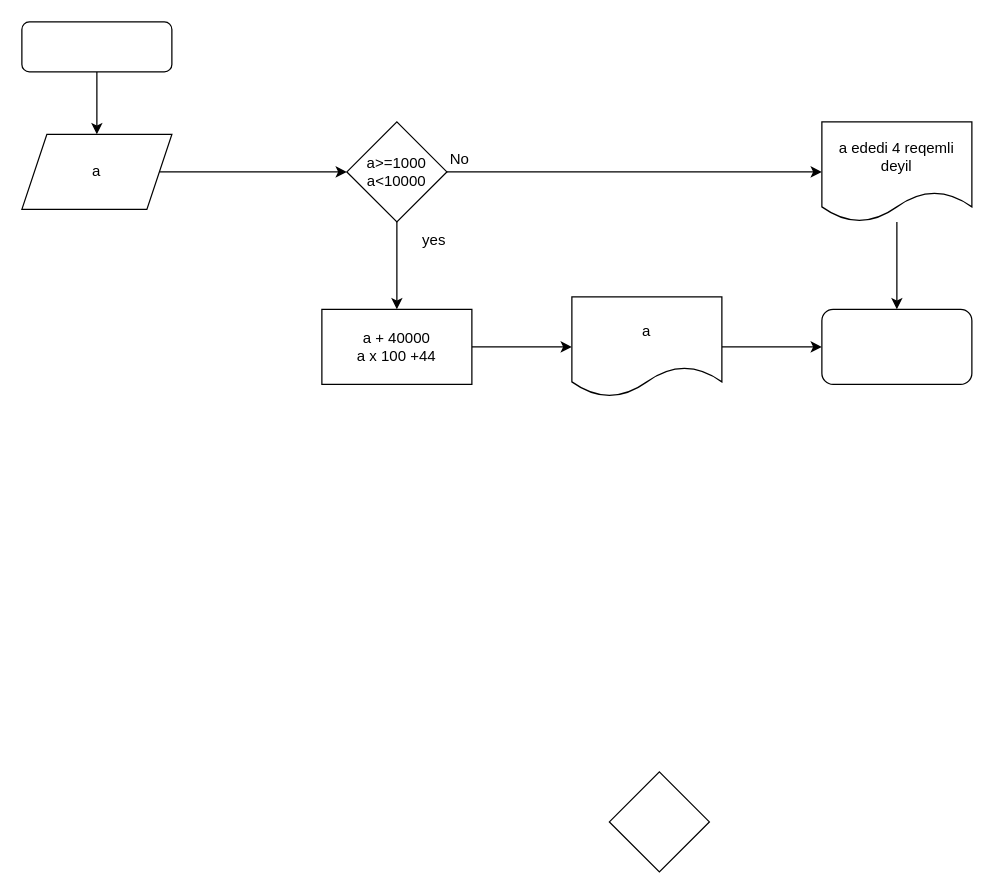
The diagram is 994 pixels wide and 894 high, and some of its shapes have lost their labels. The shapes that lost their labels are listed below. From the top down, each one's centre as x and y in pixels, then its label:
[96,46]: Start
[896,346]: End
